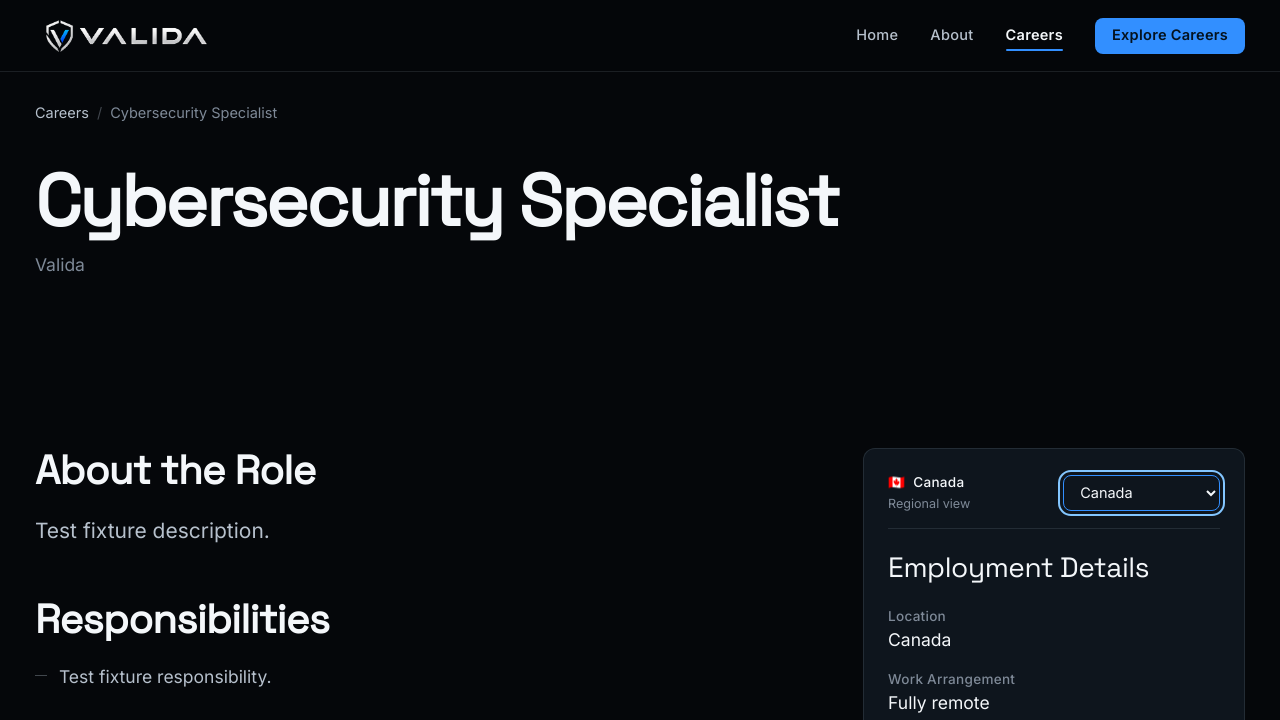
Scenario: A6 — region selector is keyboard operable › changes the regional view with the keyboard alone
expect the heading "Cybersecurity Specialist" is shown: met, box [35, 155, 838, 247]
Select "Germany" in the dropdown named "Change regional view" at (1142, 493), box [1063, 475, 1220, 511]
(page scrolled)
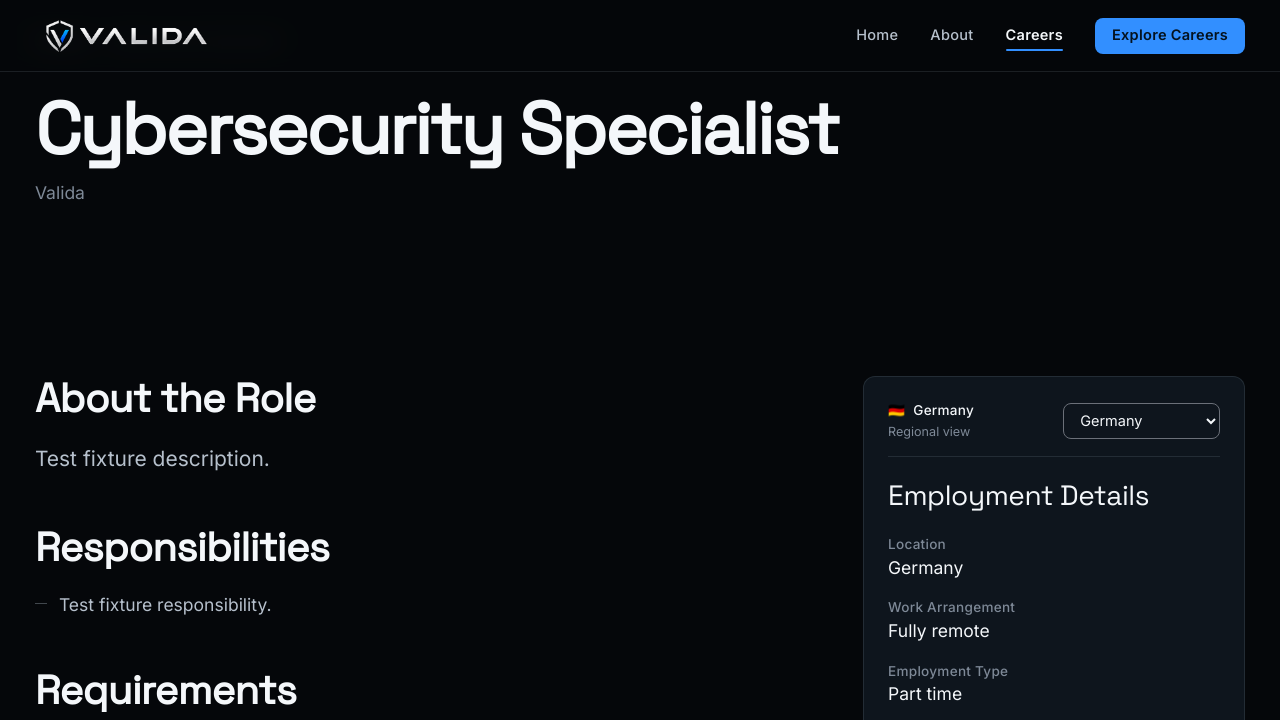
expect the text "Germany" is shown: met, box [888, 556, 963, 578]
